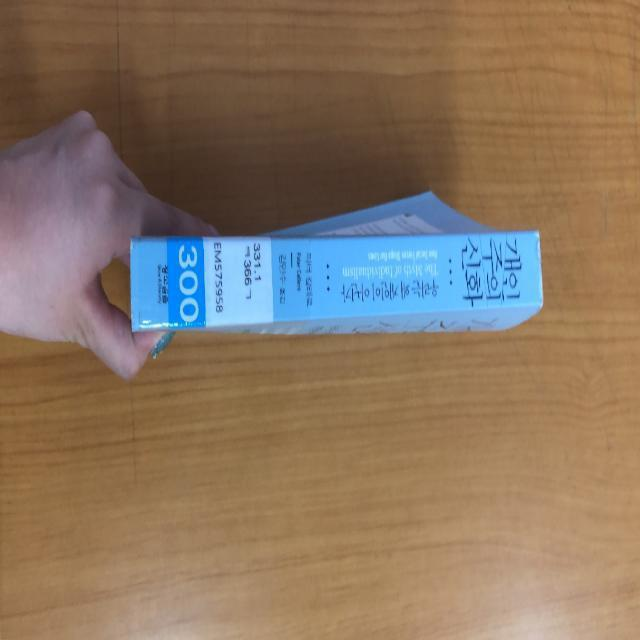Wornout: (530, 222, 544, 315), (127, 231, 143, 275)
